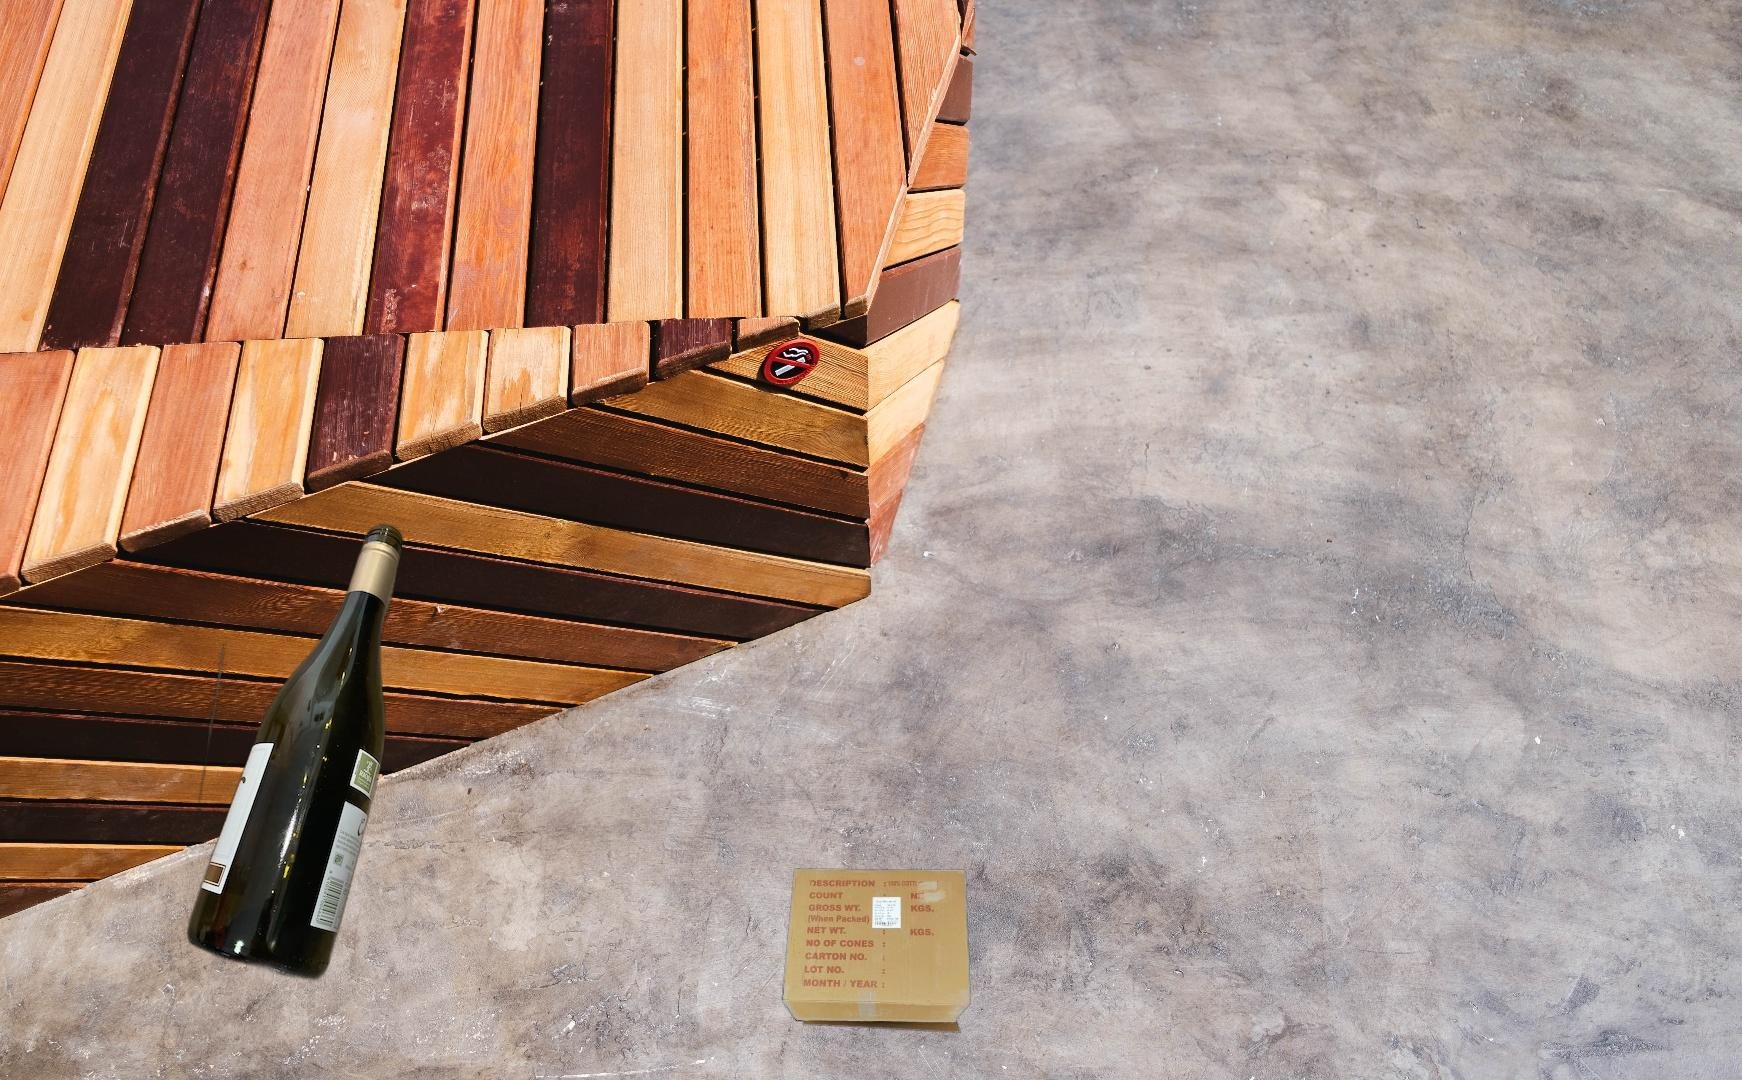glass: (182, 519, 407, 985)
trashbox-cardboard: (779, 866, 973, 1036)
